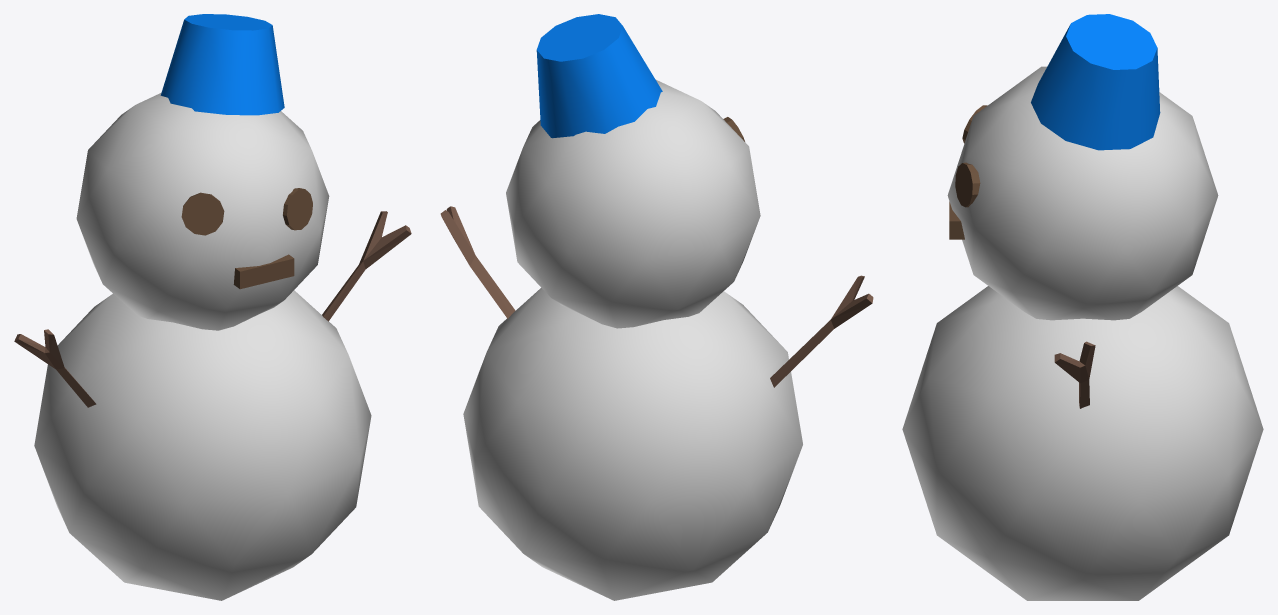
The model's file is yukidaruma 1.fbx.
The picture shows the model from 3 angles, left to right: view 1: azimuth 30°, elevation 25°; view 2: azimuth 150°, elevation 25°; view 3: azimuth 270°, elevation 25°; orthographic projection. The views are drawn at different scales.
Parts seen in each view (by area): view 1: ICO球; view 2: ICO球; view 3: ICO球.
Boxes of the visible parts, bbox=[...] form: ICO球: bbox=[14, 14, 411, 600]; ICO球: bbox=[440, 14, 873, 600]; ICO球: bbox=[902, 14, 1263, 600].
Bounding box in the file's own units: 2.74 × 3.42 × 2.
